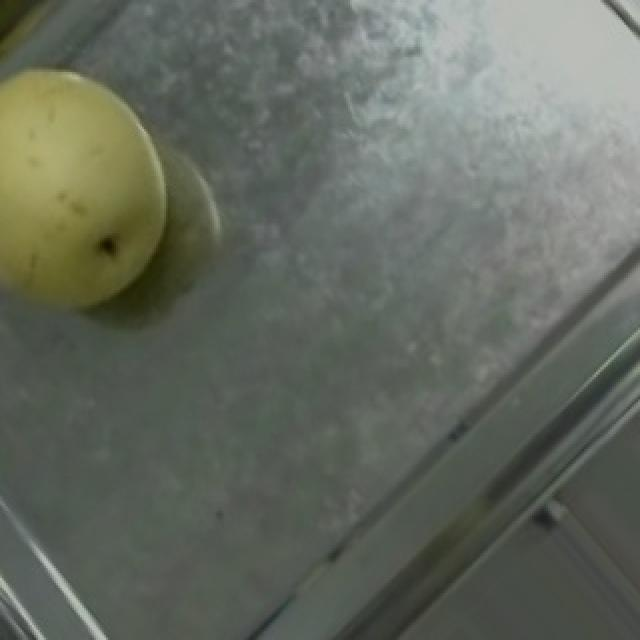Fruit: (0, 35, 208, 347)
